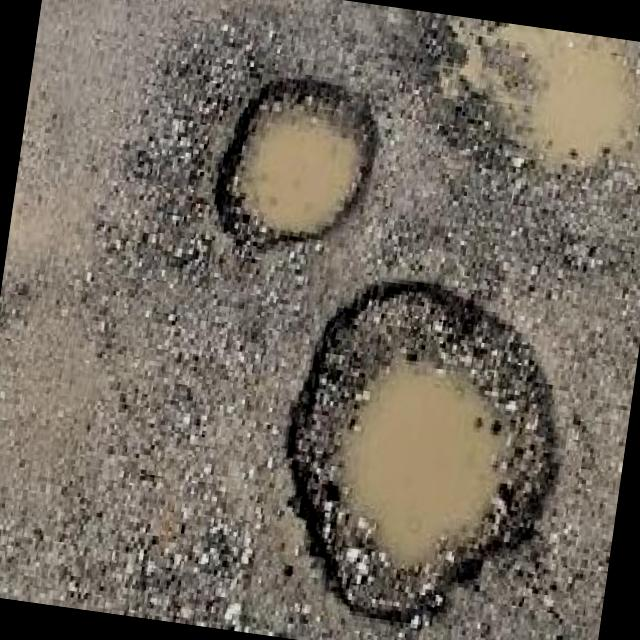Lubang: (289, 284, 555, 629), (215, 77, 377, 256), (450, 22, 638, 171)
